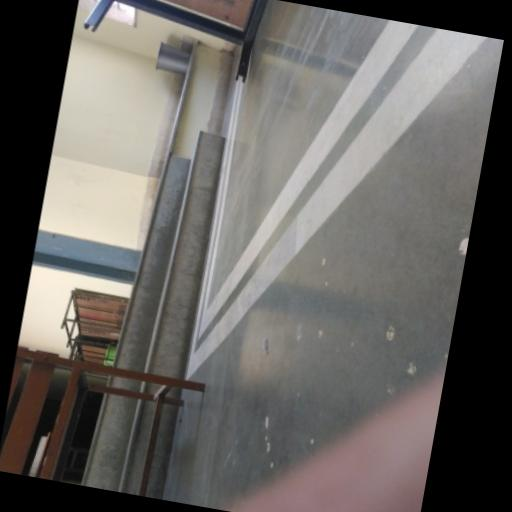stairs: (116, 130, 224, 376)
